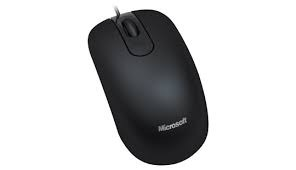mouse: (81, 7, 214, 164)
